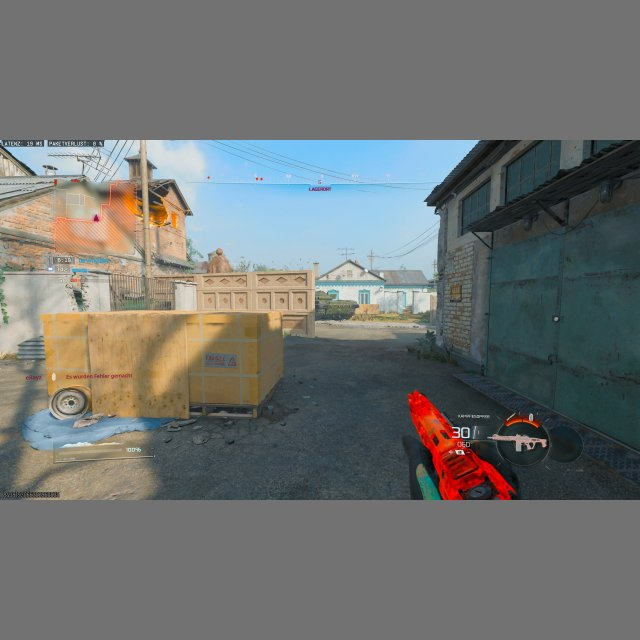head: (71, 272, 79, 282)
player: (65, 273, 89, 311)
